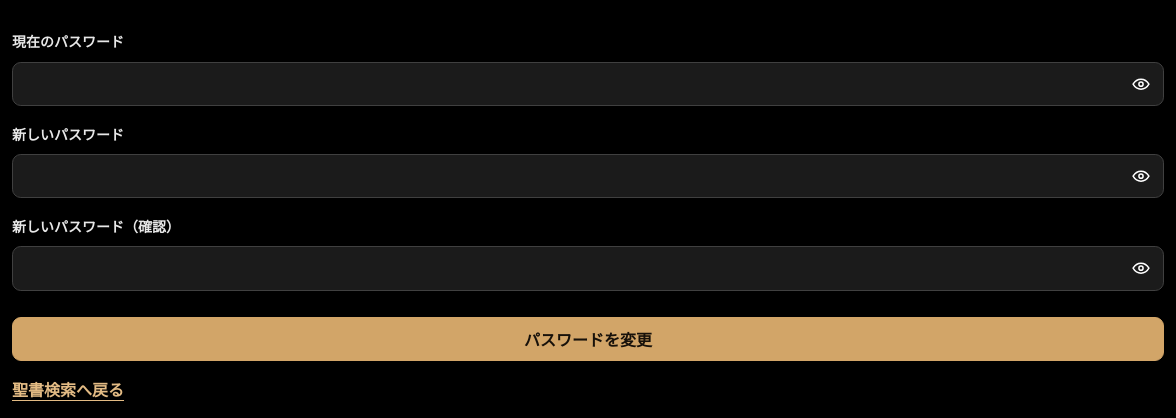
Test: church password recovery forms › changes the signed-in user's password and revokes other sessions
This screenshot has width=1176, height=418.
In the password field labelled "現在のパスワード": (588, 84) [12,62,1164,106], type "current-password"
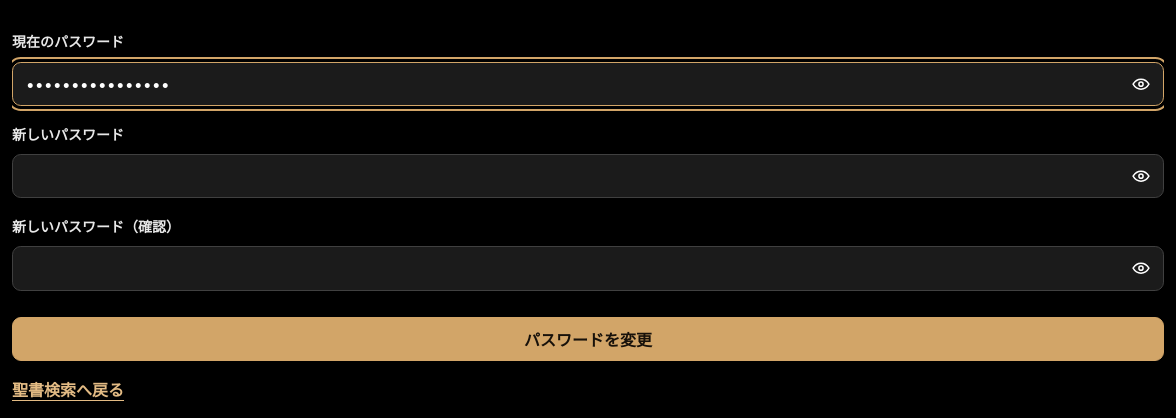
In the password field labelled "新しいパスワード": (588, 176) [12,154,1164,198], type "replacement-password"
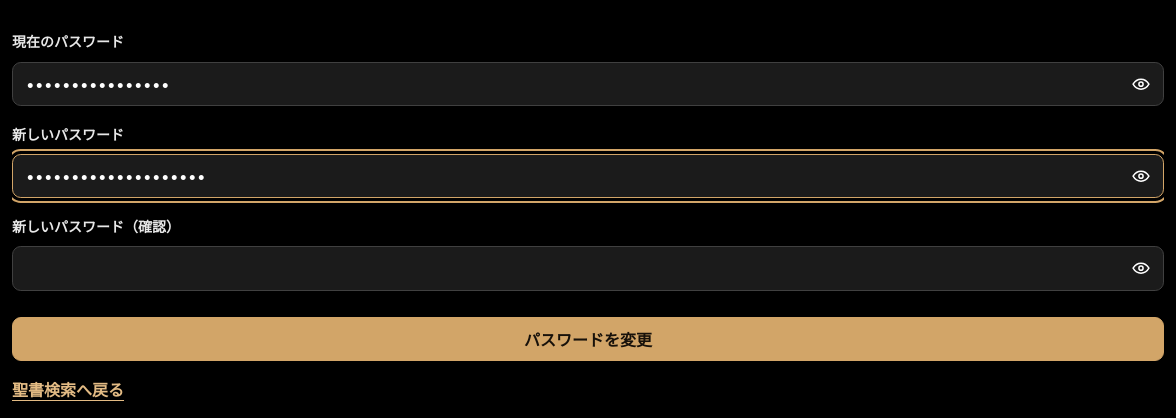
In the password field labelled "新しいパスワード（確認）": (588, 268) [12,246,1164,291], type "replacement-password"
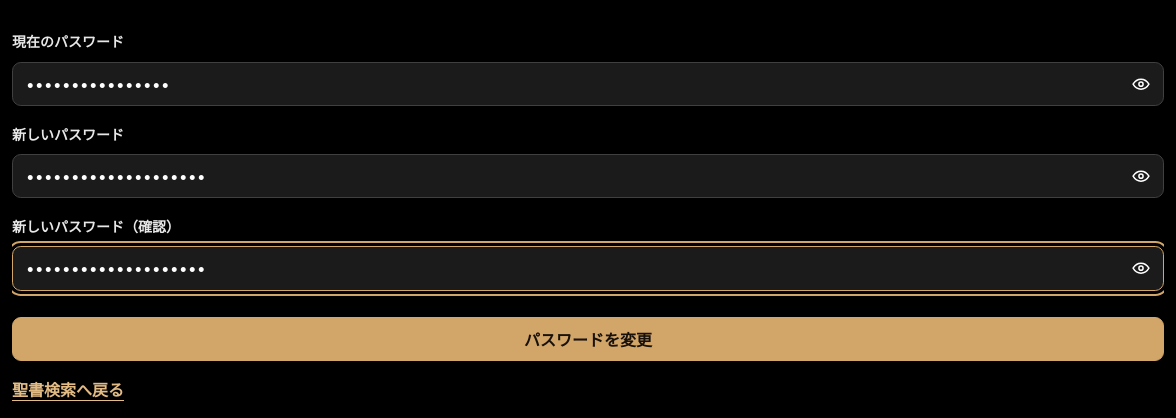
Click the button "パスワードを変更": click(588, 339) [12,317,1164,361]
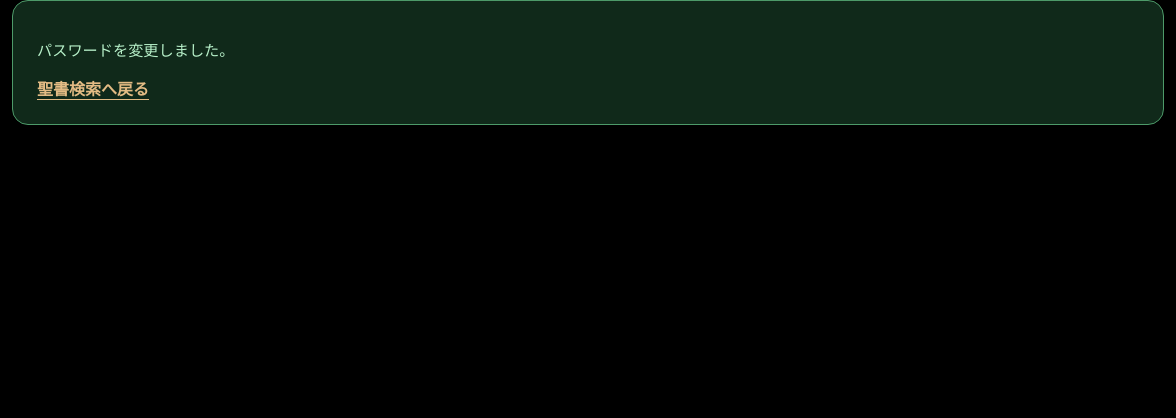
expect the message shows "パスワードを変更しました。": met, box [37,41,234,60]
